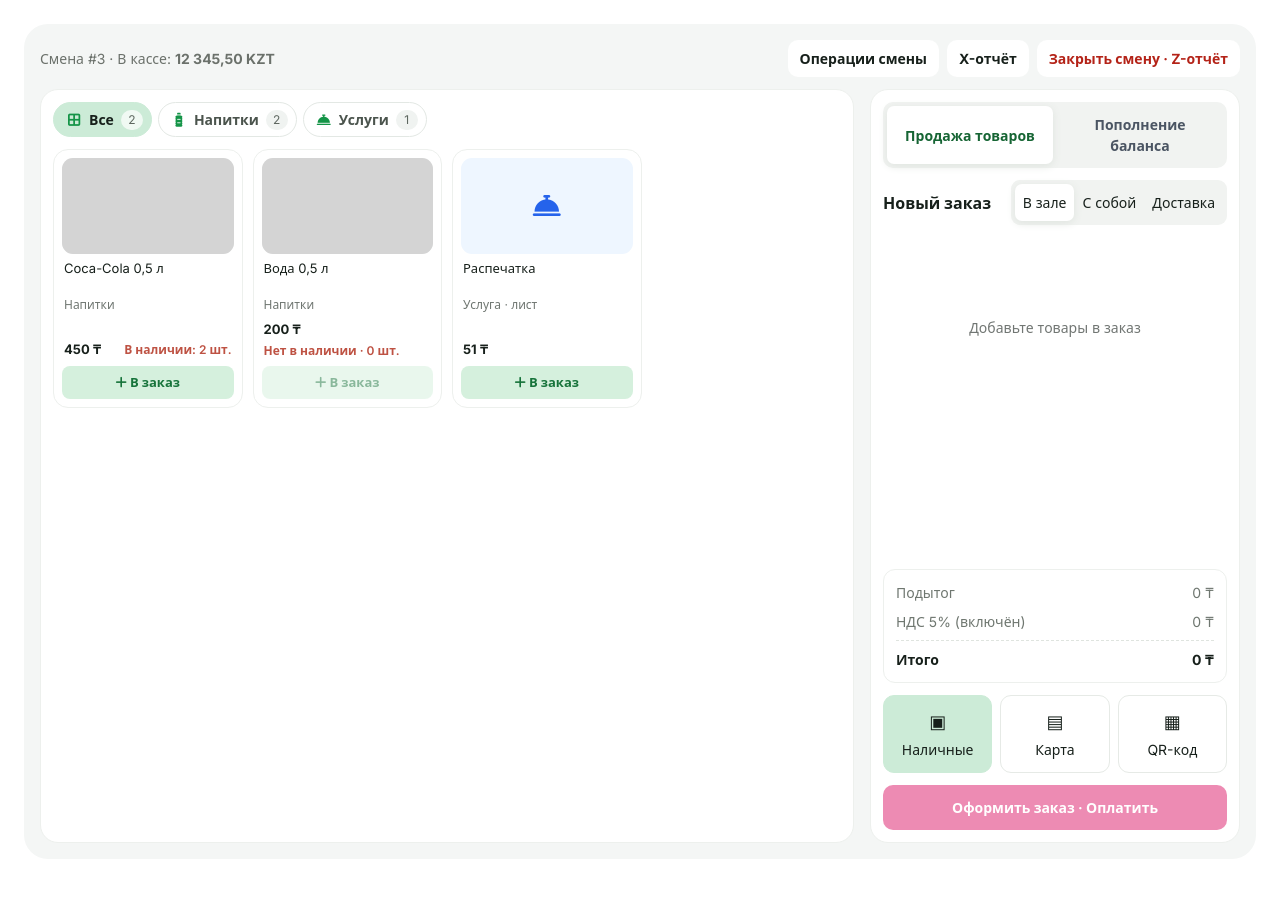
Test: касса POS › пополнение: больше двух знаков после запятой — ошибка формы, запрос не уходит (Q-002)
This screenshot has width=1280, height=900.
Expected: the heading "Coca-Cola 0,5 л" is shown, [64,260,164,276]
Click the tab "Пополнение баланса": click(1140, 135) [1057,106,1223,164]
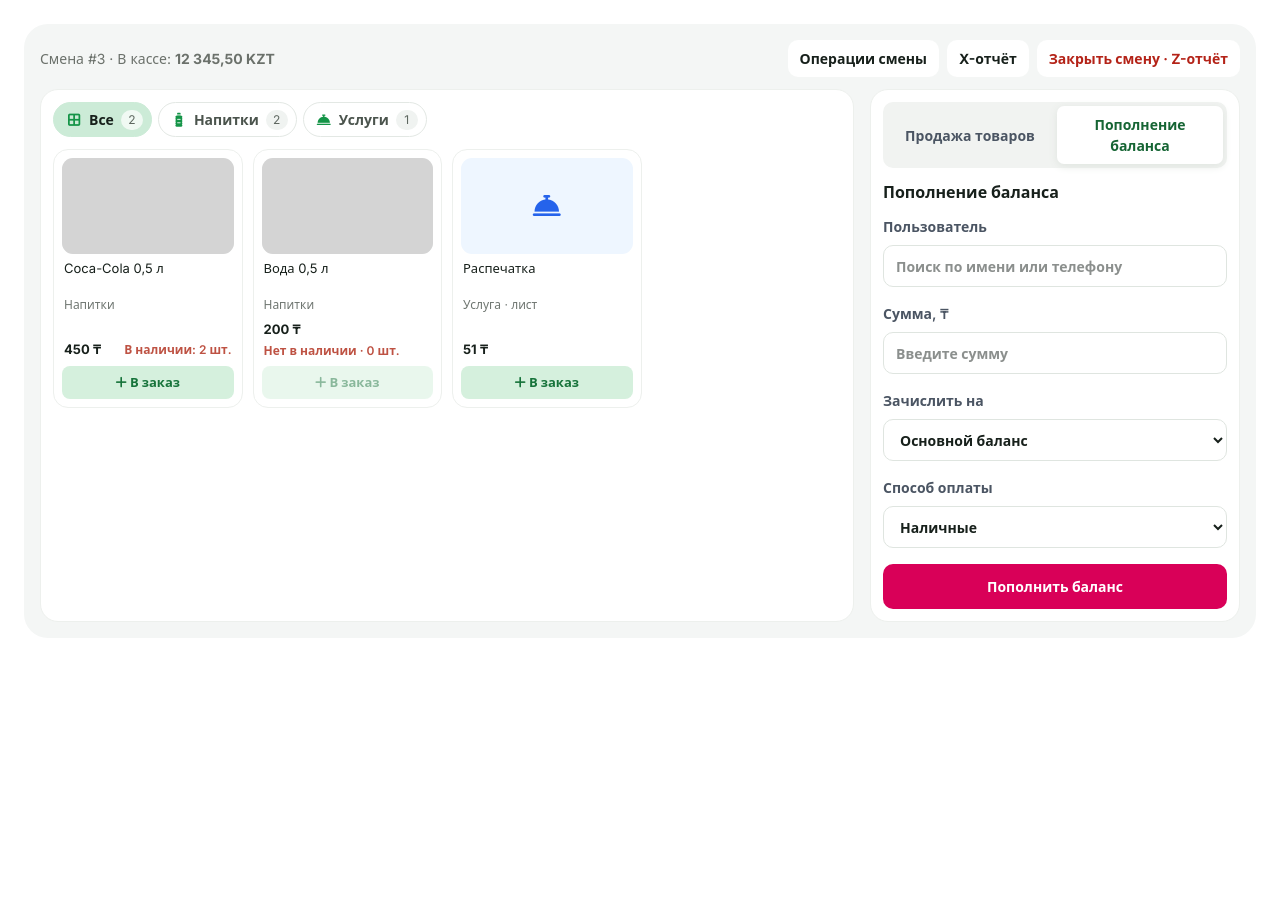
Focus the dropdown labelled "Пользователь": (1055, 266) [883,245,1227,287]
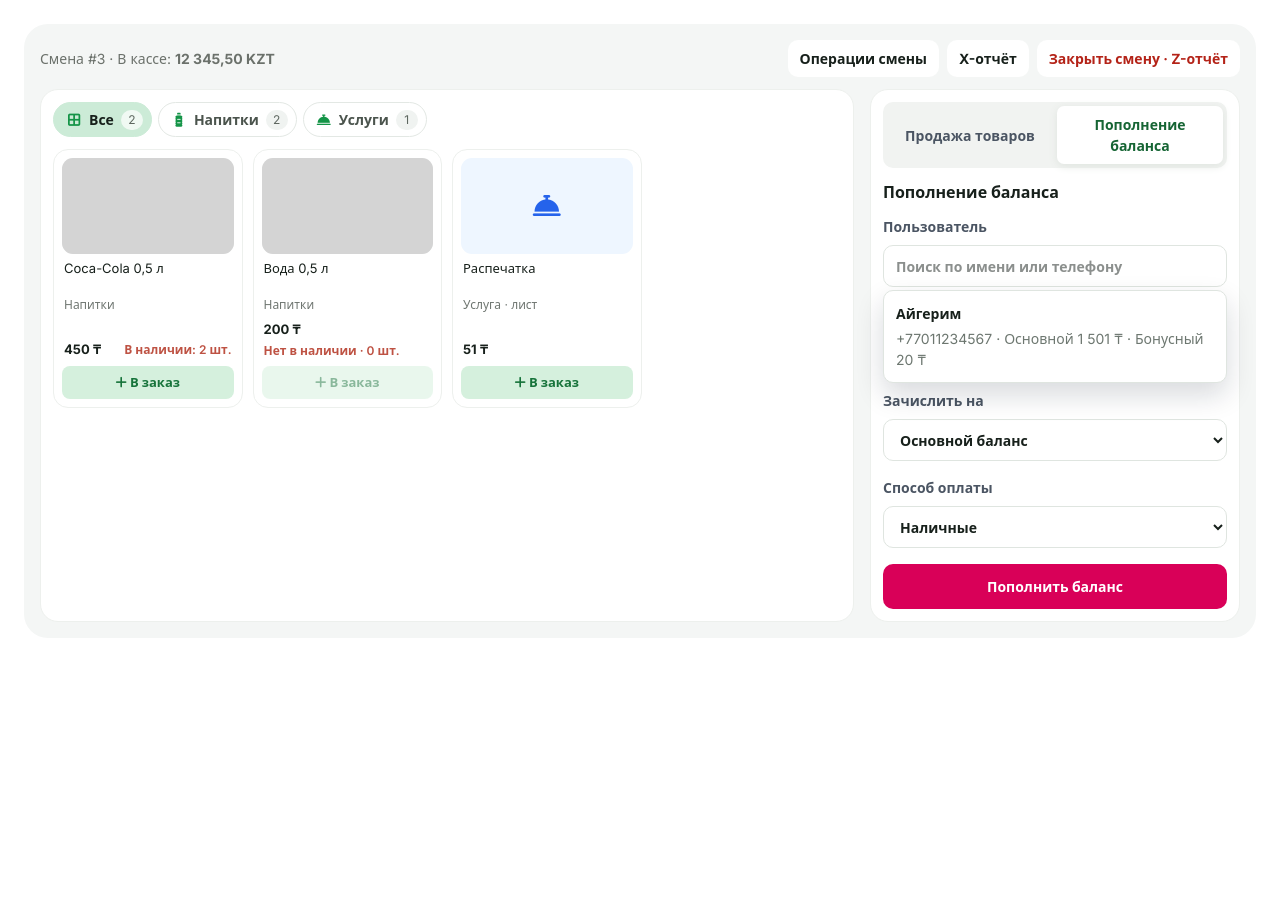
Click the option "Айгерим +77011234567 · Основной 1 501 ₸ · Бонусный 20 ₸": click(1055, 336) [888,295,1222,378]
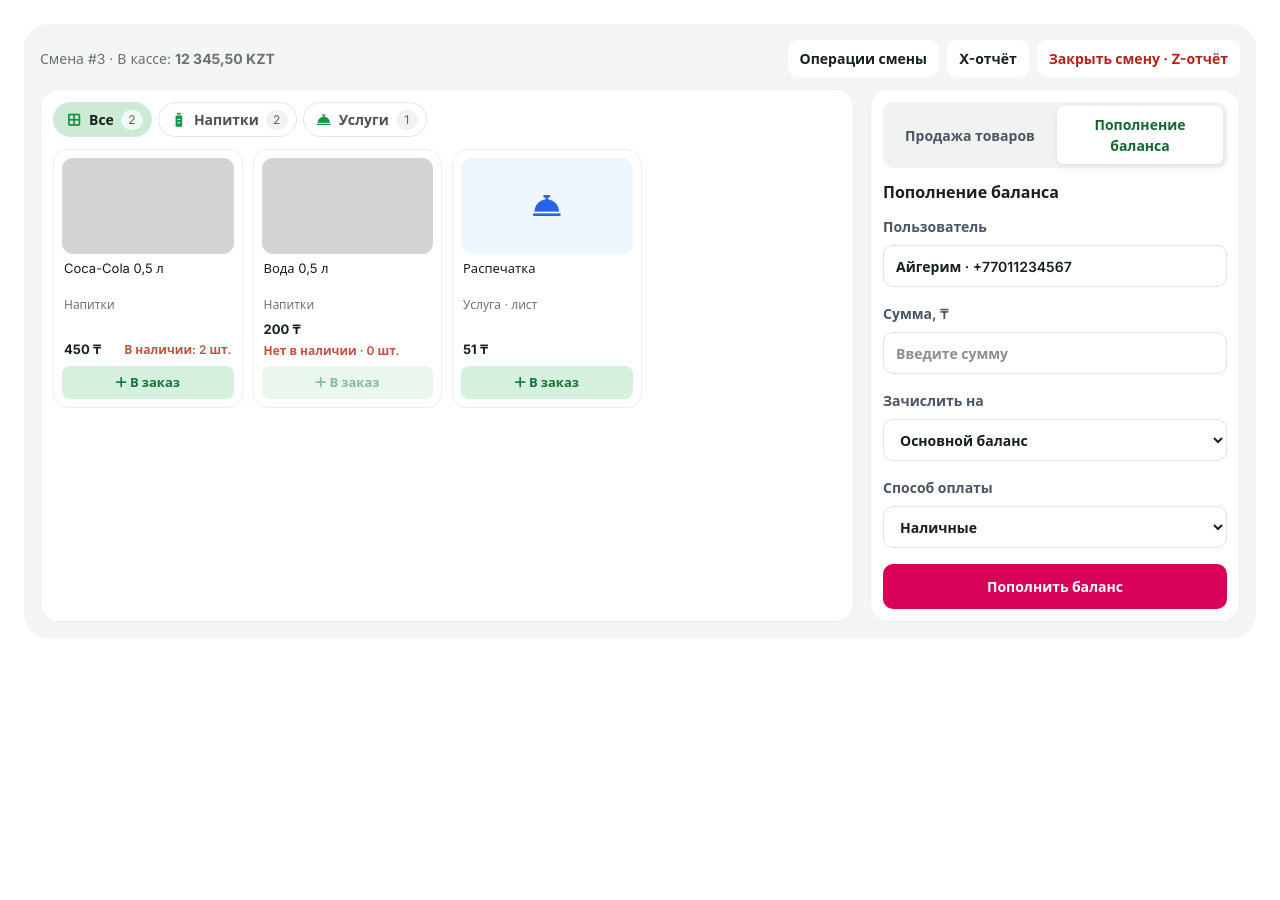
In the number field with placeholder "Введите сумму": (1055, 353) [883,332,1227,374], type "10.005"
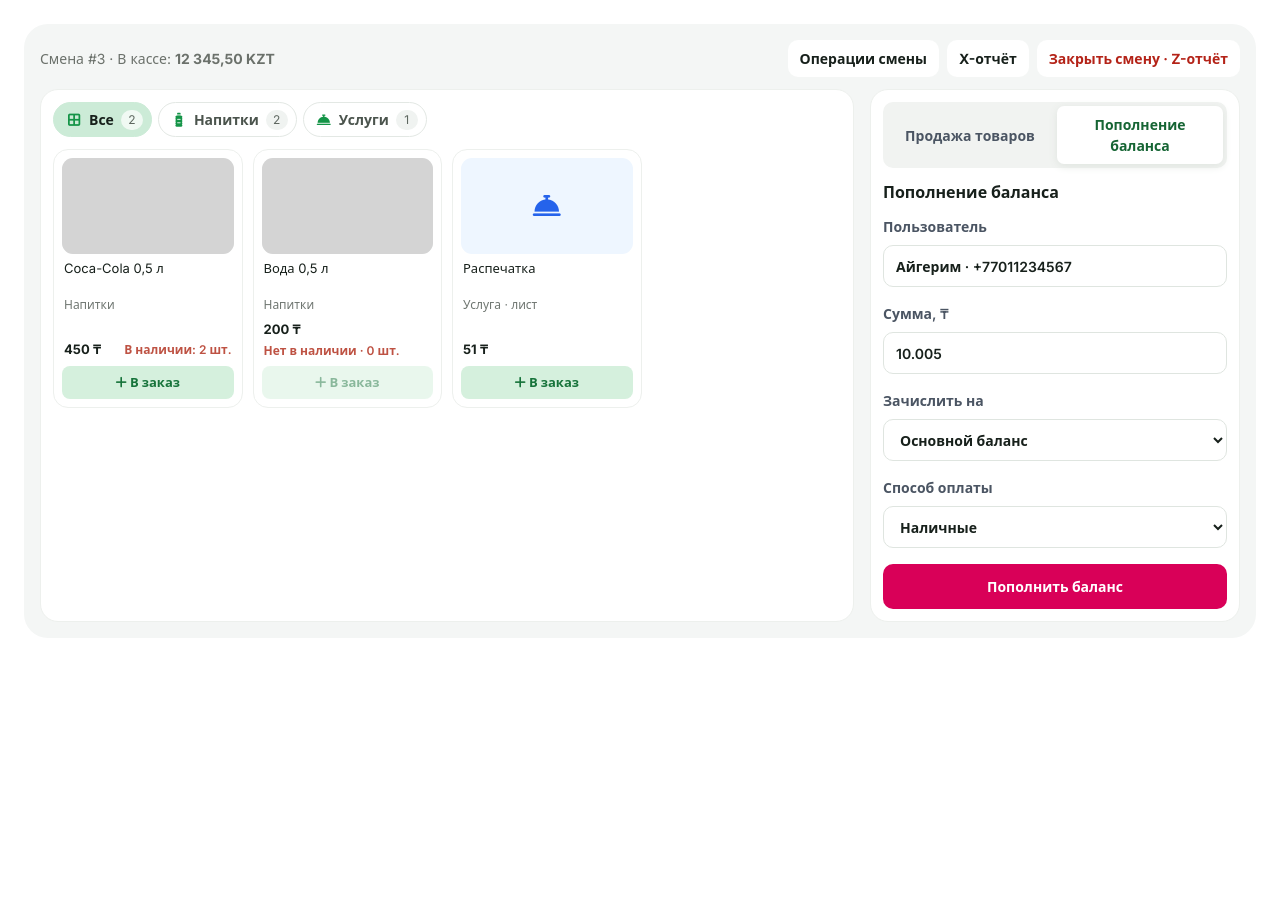
Submit the form, box [883,216,1227,609]
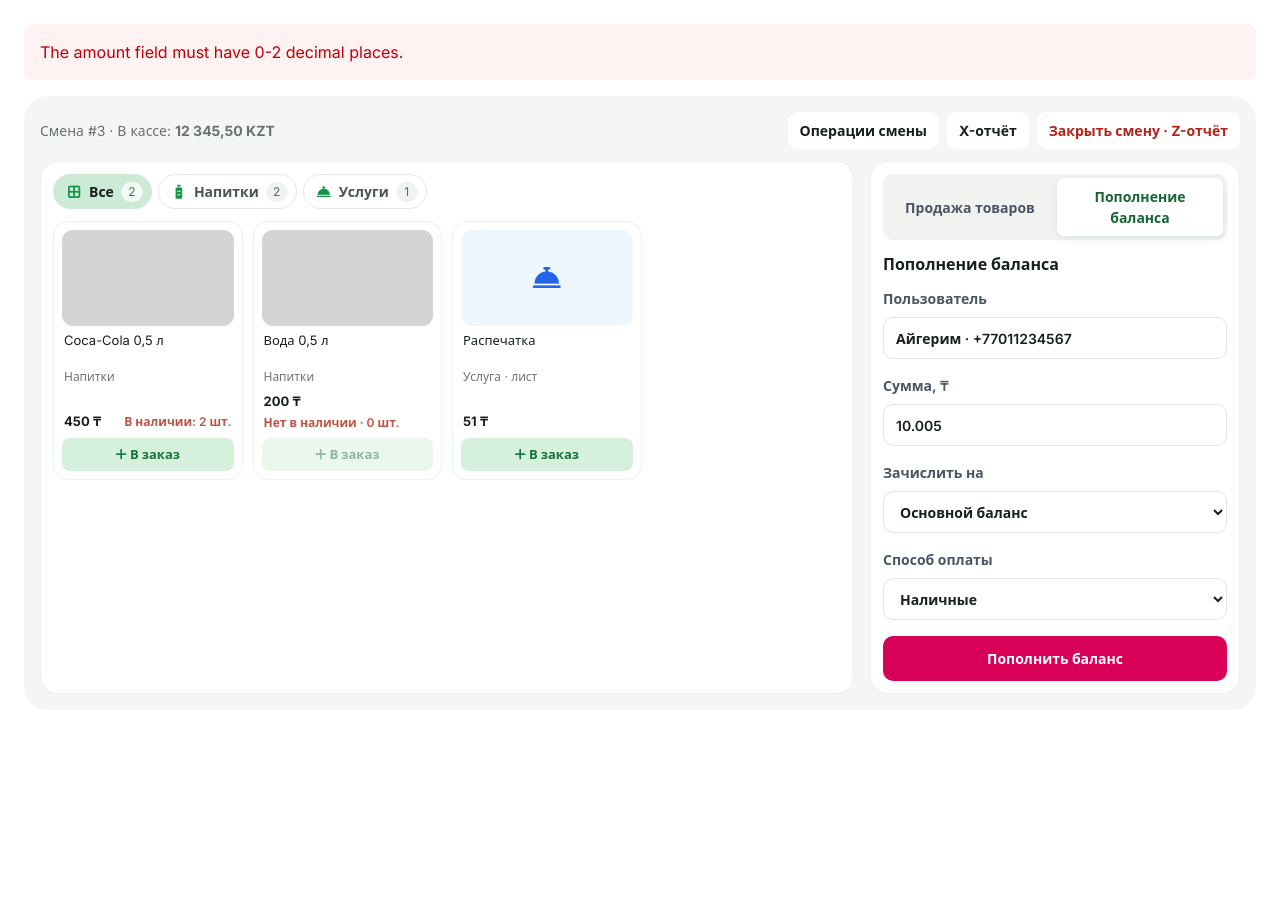
Now the text "The amount field must have 0-2 decimal places." is shown, box [24,24,1256,80]
